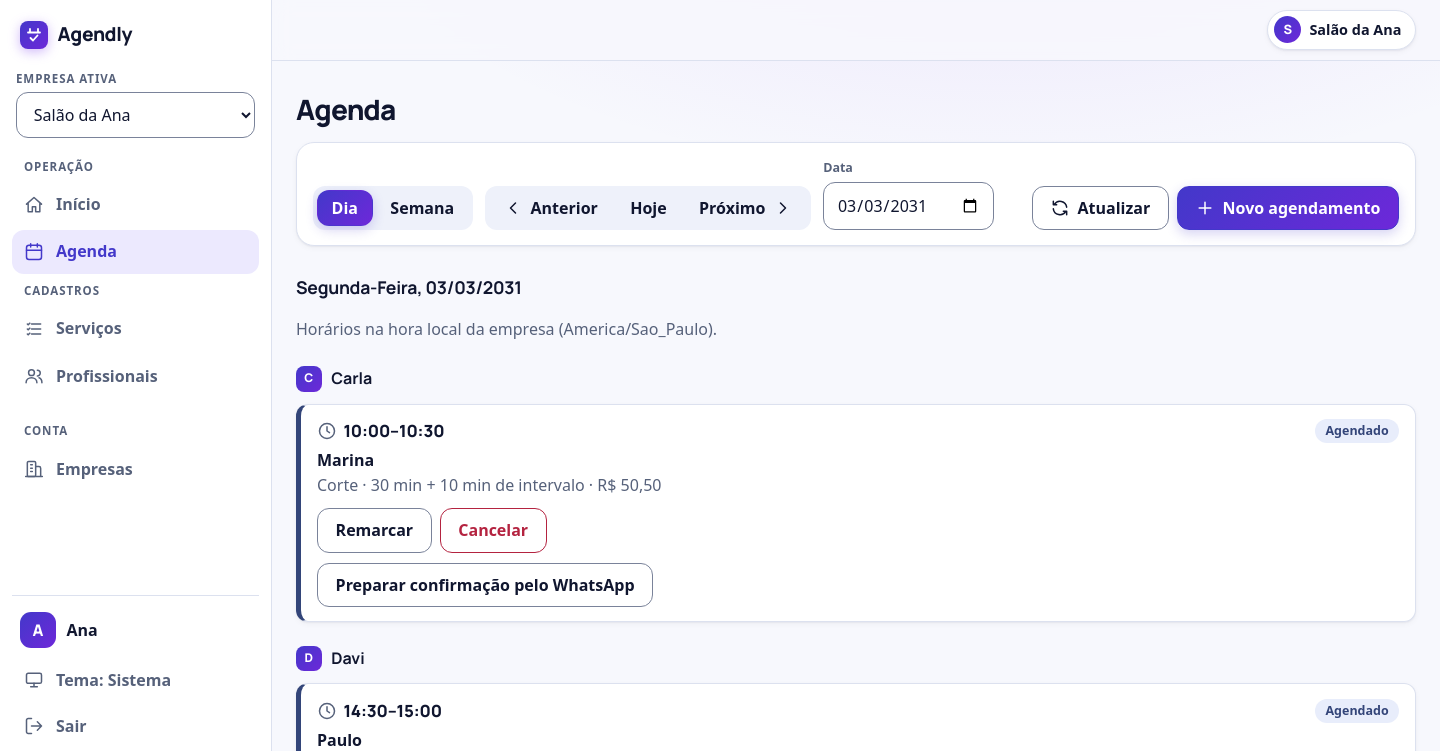
Test: navegação e visão semanal › navega entre dias, volta a hoje e aceita uma data digitada
Click the button "Próximo".
click(746, 208)  # box [684,190,807,226]
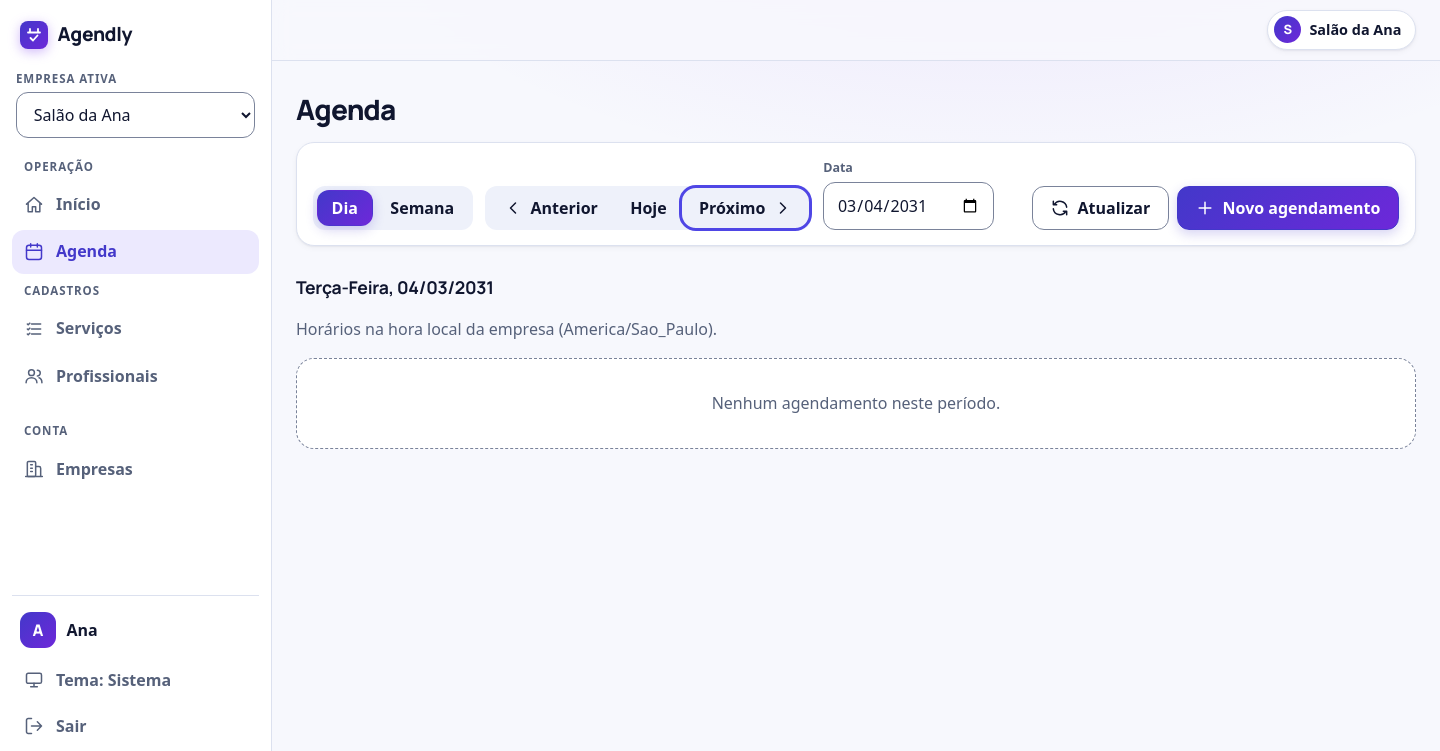
expect the heading "terça-feira, 04/03/2031" is shown: met, box [296,275,494,299]
Click the button "Anterior".
click(551, 208)  # box [489,190,612,226]
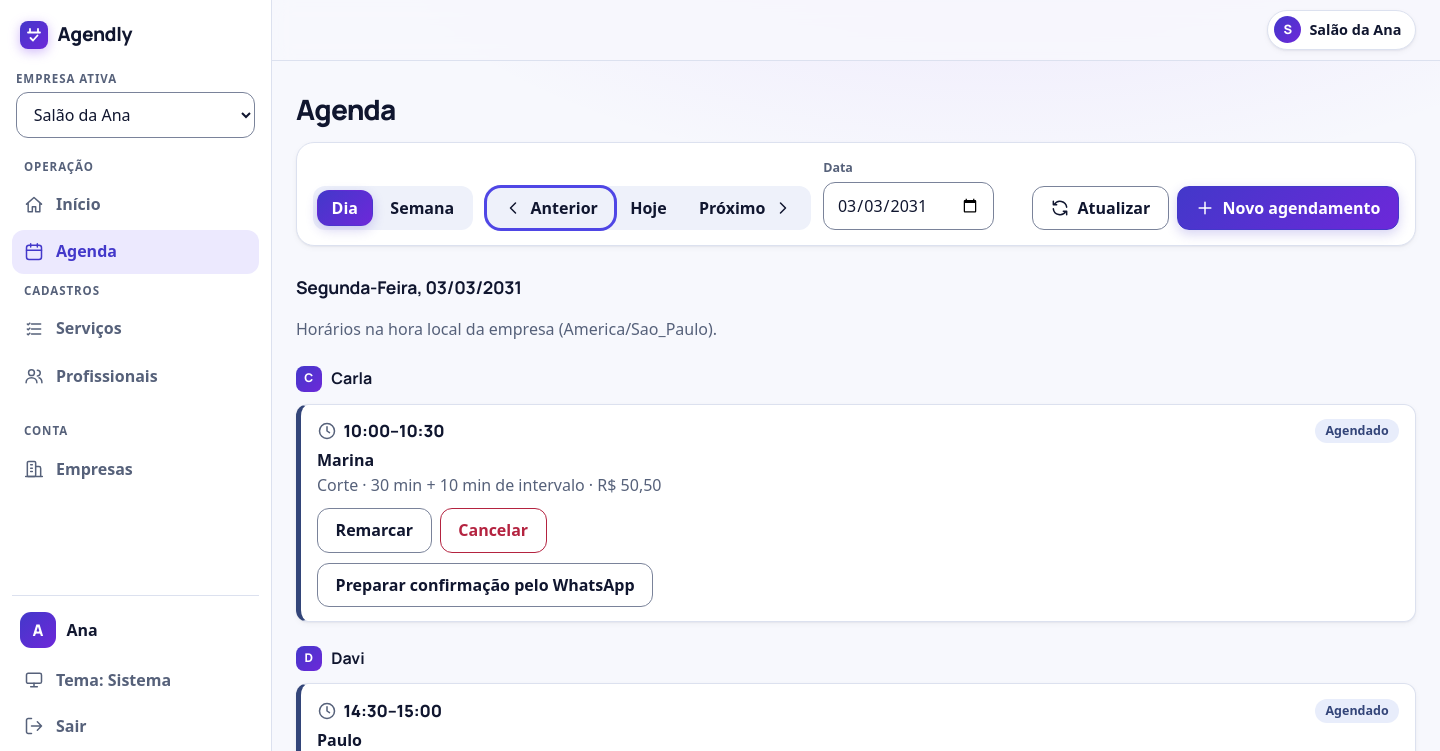
Click the button "Anterior".
click(551, 208)  # box [489,190,612,226]
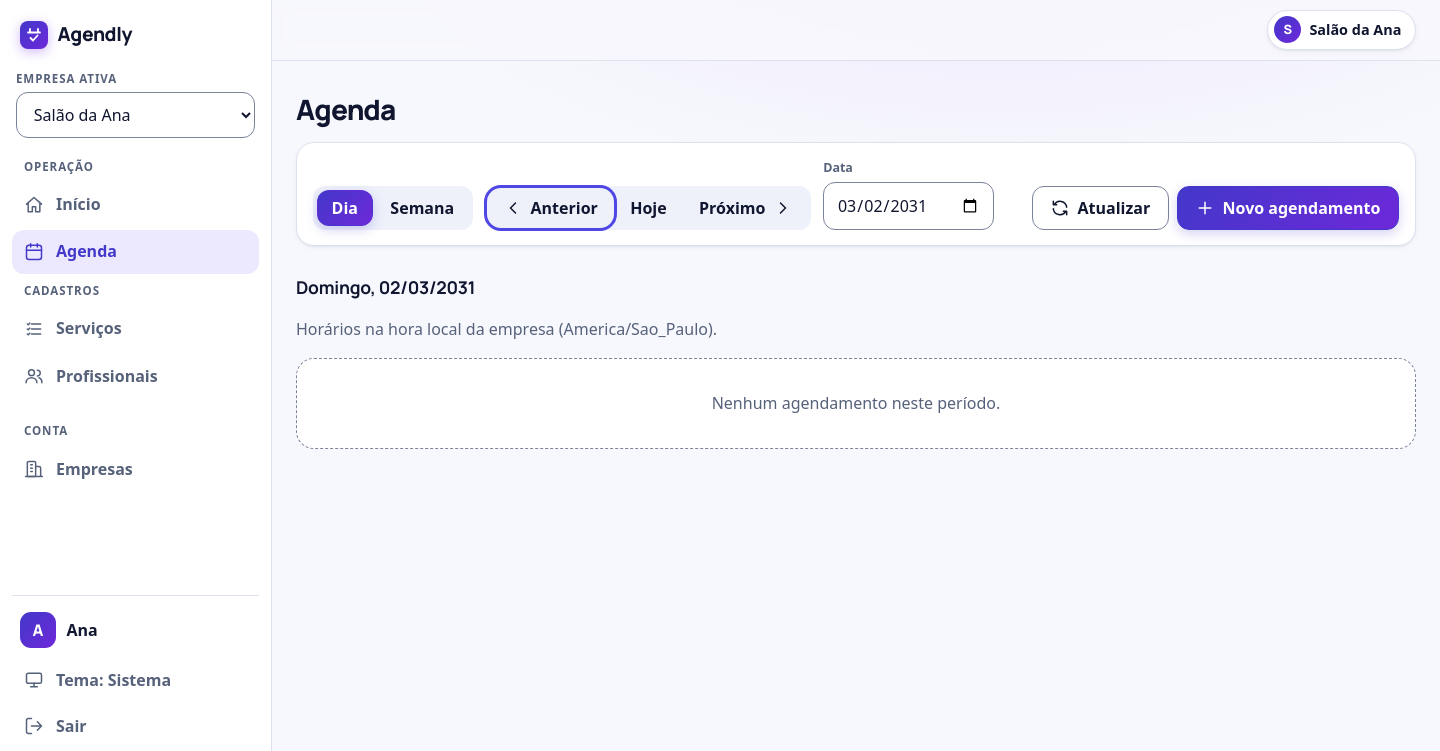
expect the heading "domingo, 02/03/2031" is shown: met, box [296,275,475,299]
Click the button "Hoje".
click(648, 208)  # box [616,190,681,226]
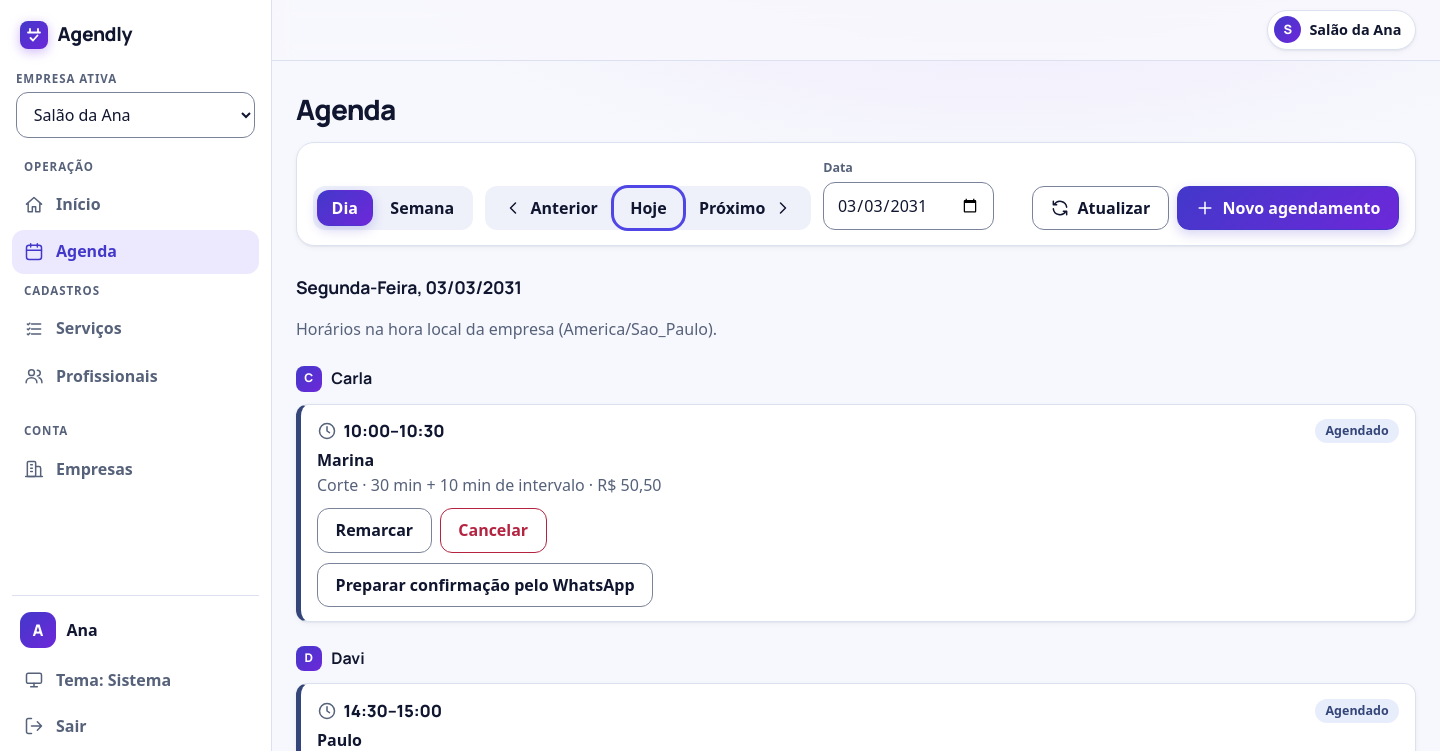
expect the heading "segunda-feira, 03/03/2031" is shown: met, box [296,275,522,299]
Type "2031-03-20" into the date field labelled "Data".
click(908, 206); type("2031-03-20")  # box [823,182,994,230]
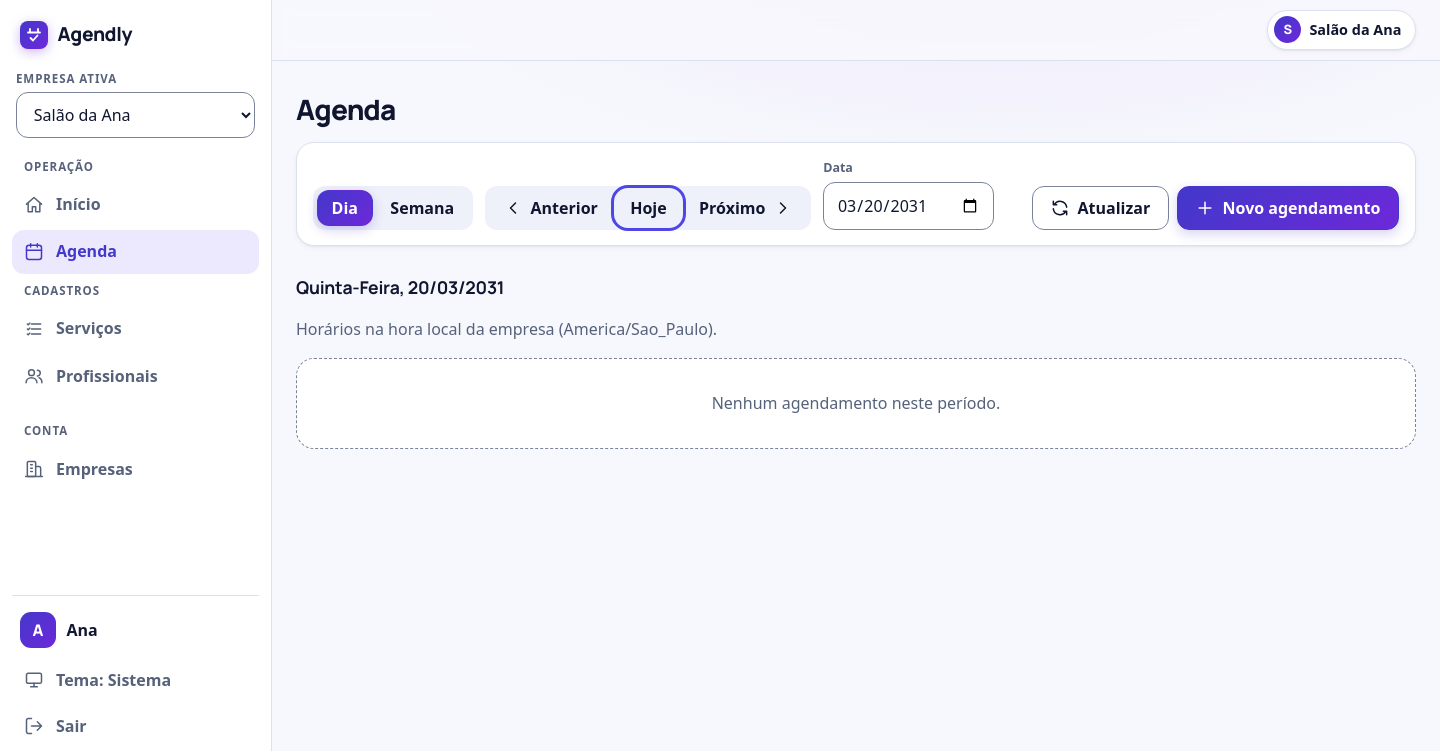
expect the heading "quinta-feira, 20/03/2031" is shown: met, box [296,275,504,299]
